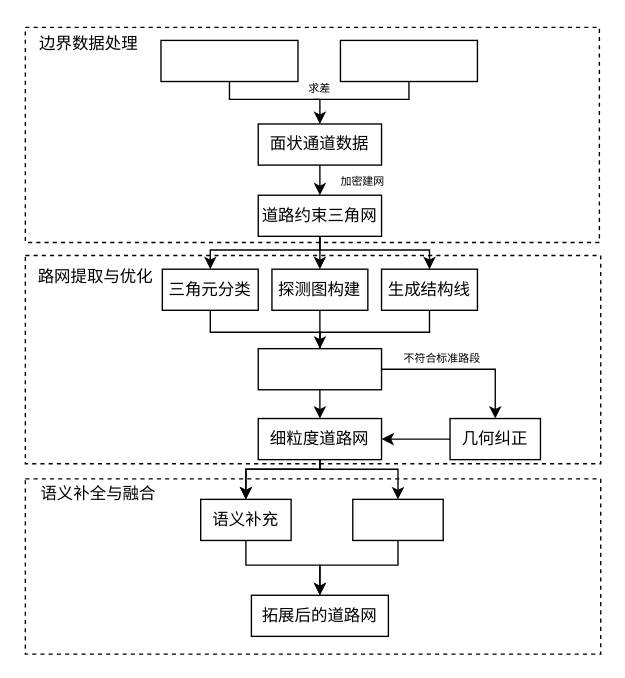
Image size: 625x678. Some labels were removed from this diagram. Here are the shapes that lost their labels. From the top down, the centre of each, then its label:
(229,60): 街区边界矢量数据
(408,60): 建筑物矢量数据
(319,368): 街区中轴线
(397,519): 道路融合
